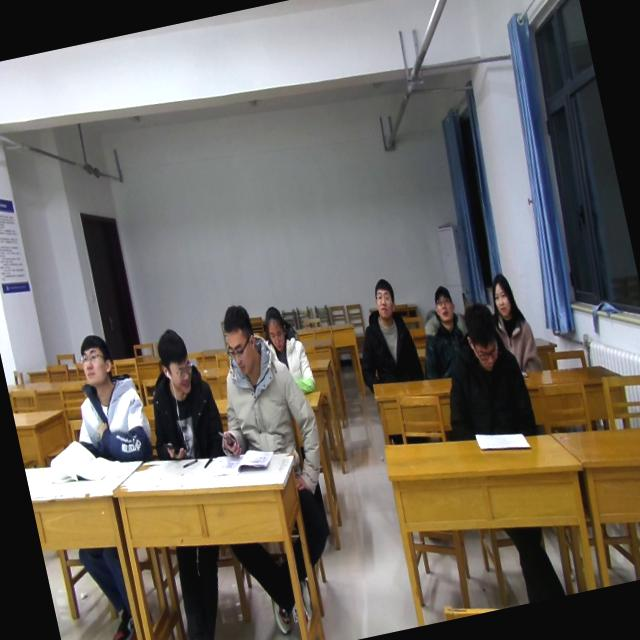down: (456, 294, 508, 376), (214, 300, 264, 382), (256, 298, 292, 357), (364, 268, 398, 324)
lookup: (72, 324, 120, 396), (483, 268, 521, 326), (424, 274, 459, 329)
sit: (191, 291, 321, 466), (424, 297, 541, 453), (54, 324, 158, 475), (130, 322, 231, 474), (341, 274, 427, 393), (408, 278, 481, 382), (480, 268, 544, 378), (258, 300, 319, 400)
